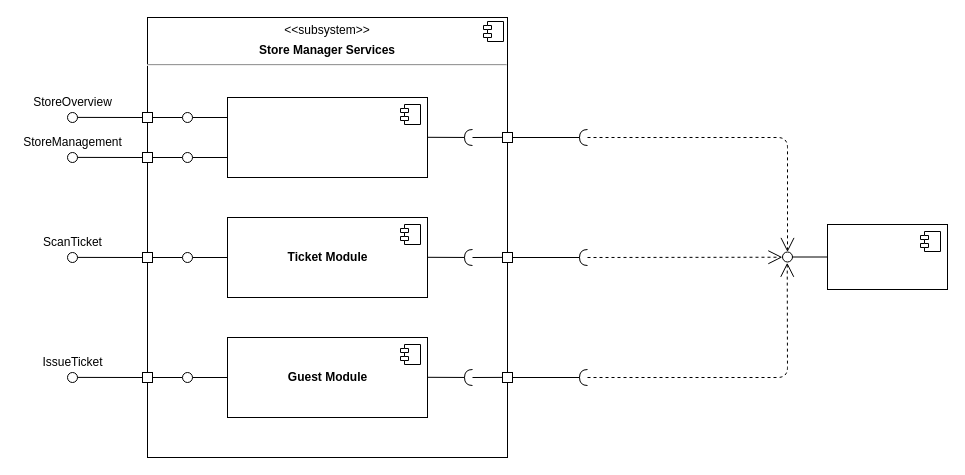
This 965x475 diagram has some shape labels left out. The shapes that lost their labels are listed below. From the top down, each one's centre as x and y in pixels, then its label:
(x=327, y=137): Store Module
(x=887, y=257): DBMS
